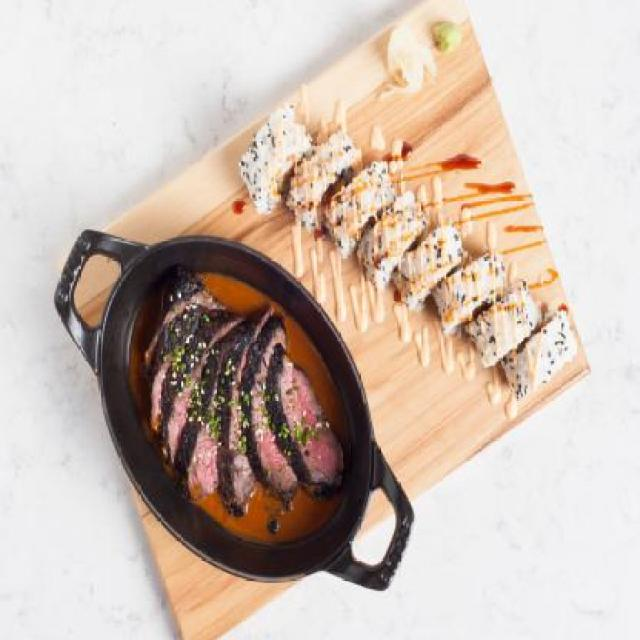steak: (138, 270, 347, 533)
sushi: (238, 97, 596, 395)
